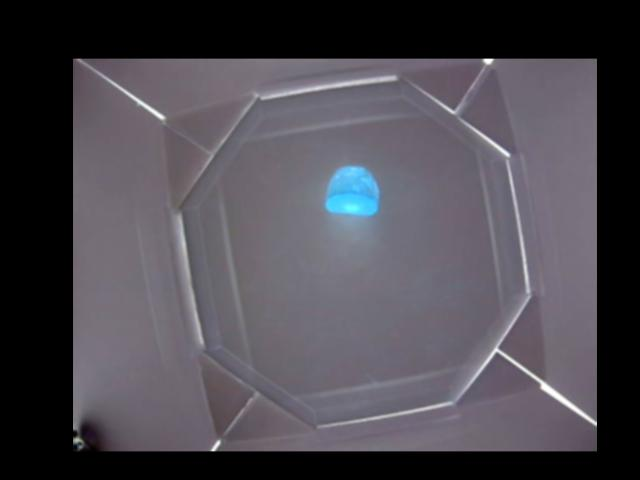Carrot: (326, 165, 380, 214)
